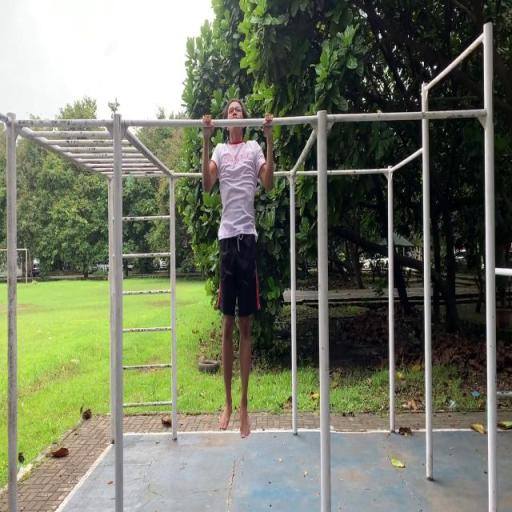Normal_BrenchPress: (200, 99, 275, 438)
